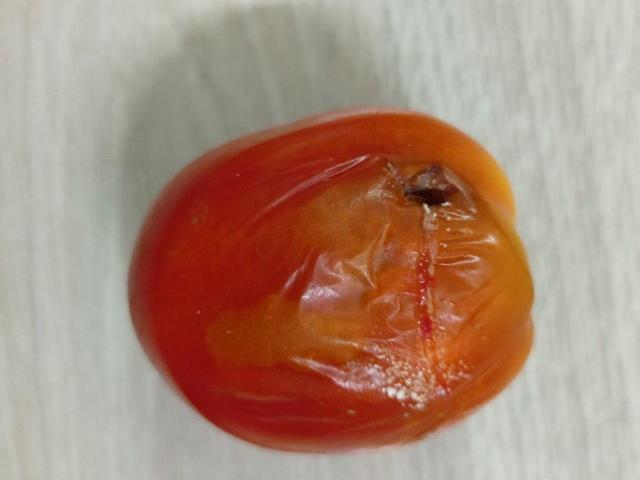defect: (125, 103, 542, 458)
